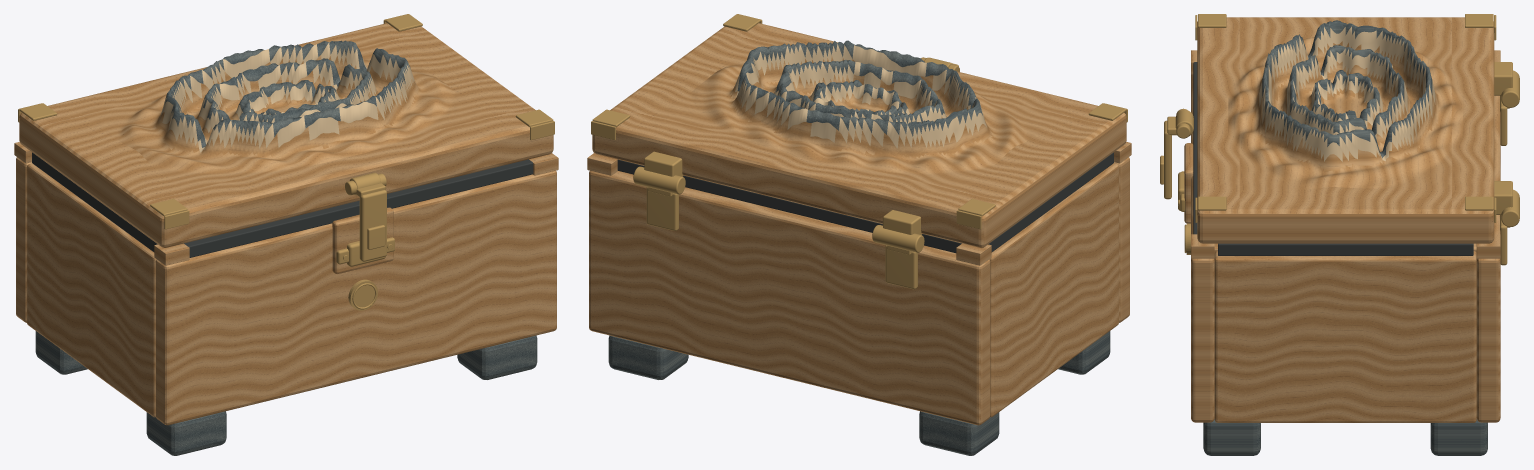
Rendered from mauritania.glb.
3 renders of one model, left to right at view 1: azimuth 30°, elevation 25°; view 2: azimuth 150°, elevation 25°; view 3: azimuth 270°, elevation 25°, orthographic. The views are drawn at different scales.
Visible parts, largest first — view 1: Stone body / front, Terrain / Richat three cuestas and dunes, Lid / polished slab, Stone body / side, Mineral seam / long, Stone / foot, Stone / foot.002, Stone body / rear, Latch / lifting hasp, Stone / clasp seat, Mineral seam / side, Stone / foot.001 (+2 smaller); view 2: Stone body / rear, Terrain / Richat three cuestas and dunes, Lid / polished slab, Stone body / side, Mineral seam / long.001, Stone / foot.001, Stone / foot.003, Stone body / front, Mineral seam / side, Hinge / fixed mount, Hinge / fixed mount.001, Stone / foot (+5 smaller); view 3: Stone body / side.001, Terrain / Richat three cuestas and dunes, Lid / polished slab, Stone body / rear, Stone body / front, Mineral seam / side.001, Stone / foot.002, Stone / foot.003, Mineral seam / long, Stone / clasp seat, Latch / lifting hasp, Hinge / moving leaf (+9 smaller).
Part boxes in pixels (x1=…): Stone body / front: x1=155, y1=170, x2=556, y2=425; Terrain / Richat three cuestas and dunes: x1=78, y1=37, x2=494, y2=194; Lid / polished slab: x1=19, y1=23, x2=553, y2=247; Stone body / side: x1=27, y1=163, x2=156, y2=417; Mineral seam / long: x1=184, y1=159, x2=533, y2=257; Stone / foot: x1=146, y1=411, x2=226, y2=455; Stone / foot.002: x1=457, y1=335, x2=537, y2=379; Stone body / rear: x1=16, y1=157, x2=31, y2=322; Latch / lifting hasp: x1=359, y1=190, x2=386, y2=261; Stone / clasp seat: x1=332, y1=207, x2=393, y2=273; Mineral seam / side: x1=32, y1=152, x2=157, y2=252; Stone / foot.001: x1=35, y1=331, x2=87, y2=374; Stone body / rear: x1=589, y1=170, x2=990, y2=425; Terrain / Richat three cuestas and dunes: x1=651, y1=37, x2=1067, y2=194; Lid / polished slab: x1=592, y1=23, x2=1126, y2=247; Stone body / side: x1=989, y1=163, x2=1118, y2=417; Mineral seam / long.001: x1=617, y1=159, x2=961, y2=253; Stone / foot.001: x1=919, y1=411, x2=999, y2=455; Stone / foot.003: x1=608, y1=335, x2=688, y2=379; Stone body / front: x1=1114, y1=157, x2=1129, y2=322; Mineral seam / side: x1=988, y1=152, x2=1113, y2=252; Hinge / fixed mount: x1=885, y1=245, x2=917, y2=289; Hinge / fixed mount.001: x1=646, y1=187, x2=678, y2=230; Stone / foot: x1=1058, y1=331, x2=1110, y2=374; Stone body / side.001: x1=1214, y1=251, x2=1476, y2=422; Terrain / Richat three cuestas and dunes: x1=1228, y1=20, x2=1462, y2=188; Lid / polished slab: x1=1197, y1=17, x2=1494, y2=243; Stone body / rear: x1=1476, y1=95, x2=1500, y2=422; Stone body / front: x1=1191, y1=74, x2=1214, y2=422; Mineral seam / side.001: x1=1218, y1=243, x2=1473, y2=255; Stone / foot.002: x1=1203, y1=419, x2=1260, y2=455; Stone / foot.003: x1=1430, y1=419, x2=1487, y2=455; Mineral seam / long: x1=1193, y1=62, x2=1197, y2=234; Stone / clasp seat: x1=1184, y1=143, x2=1193, y2=223; Latch / lifting hasp: x1=1164, y1=120, x2=1171, y2=199; Hinge / moving leaf: x1=1494, y1=62, x2=1512, y2=95.
Size of the model in its own units: 3.72 by 2.57 by 2.88.
Materials: 5 (2 with a texture image).
